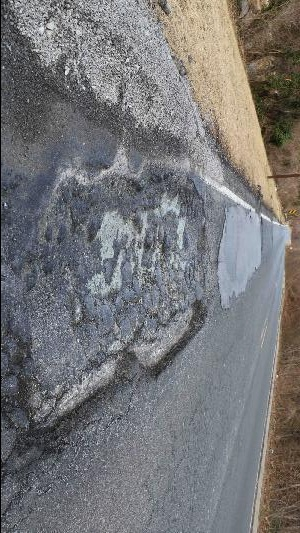pothole: (7, 162, 212, 451)
